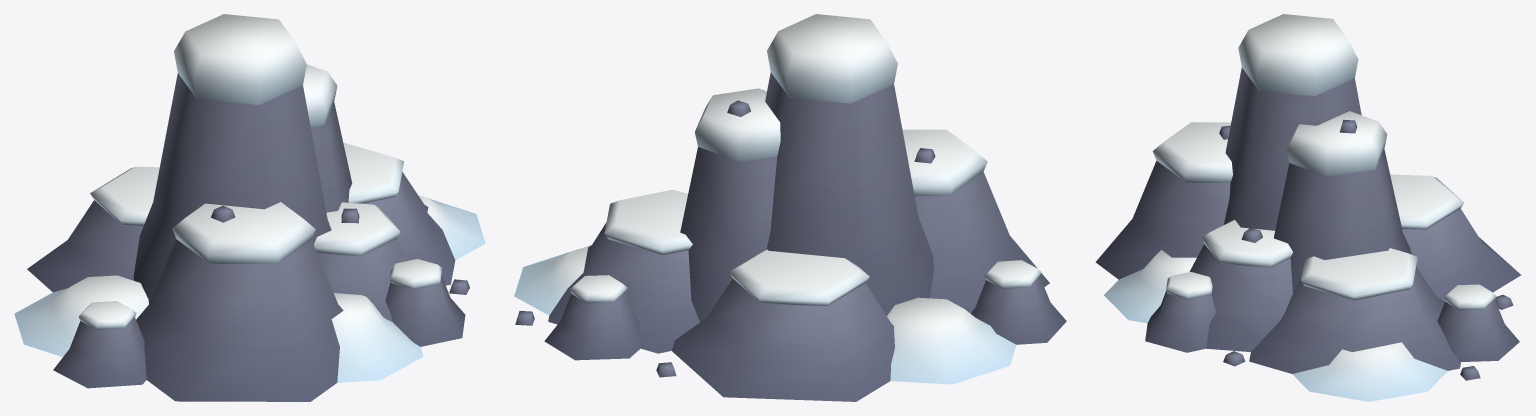
Rendered from kenney-holiday-rocks-large.glb.
3 renders of one model, left to right at view 1: azimuth 30°, elevation 25°; view 2: azimuth 150°, elevation 25°; view 3: azimuth 270°, elevation 25°, orthographic. The views are drawn at different scales.
Parts seen in each view (by area): view 1: rocks-large; view 2: rocks-large; view 3: rocks-large.
Part boxes in pixels (<box>): rocks-large: <box>14,14,485,401</box>; rocks-large: <box>514,14,1066,401</box>; rocks-large: <box>1095,14,1521,401</box>.
Size of the model in its own units: 3.14 by 1.71 by 2.69.
1 material, 1 textured.
